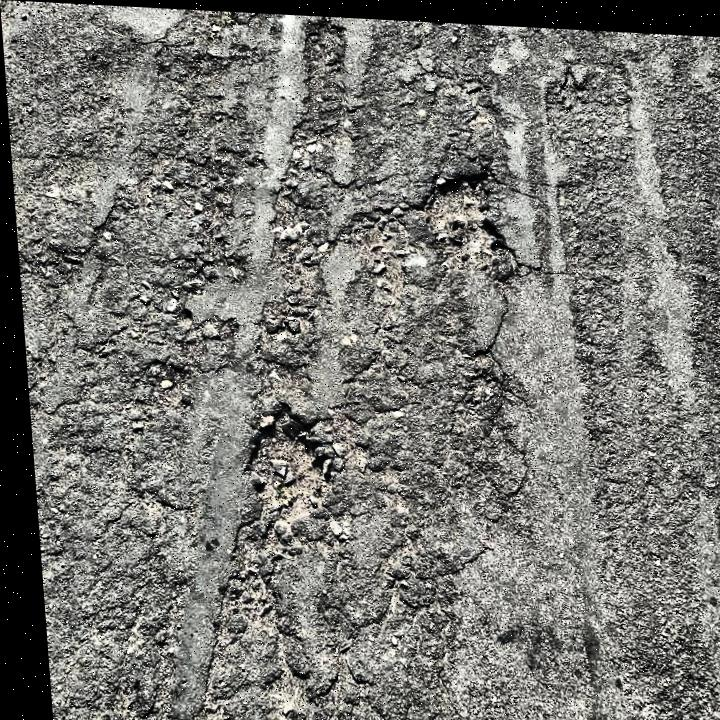pothole: (231, 395, 329, 518), (414, 156, 512, 270)
